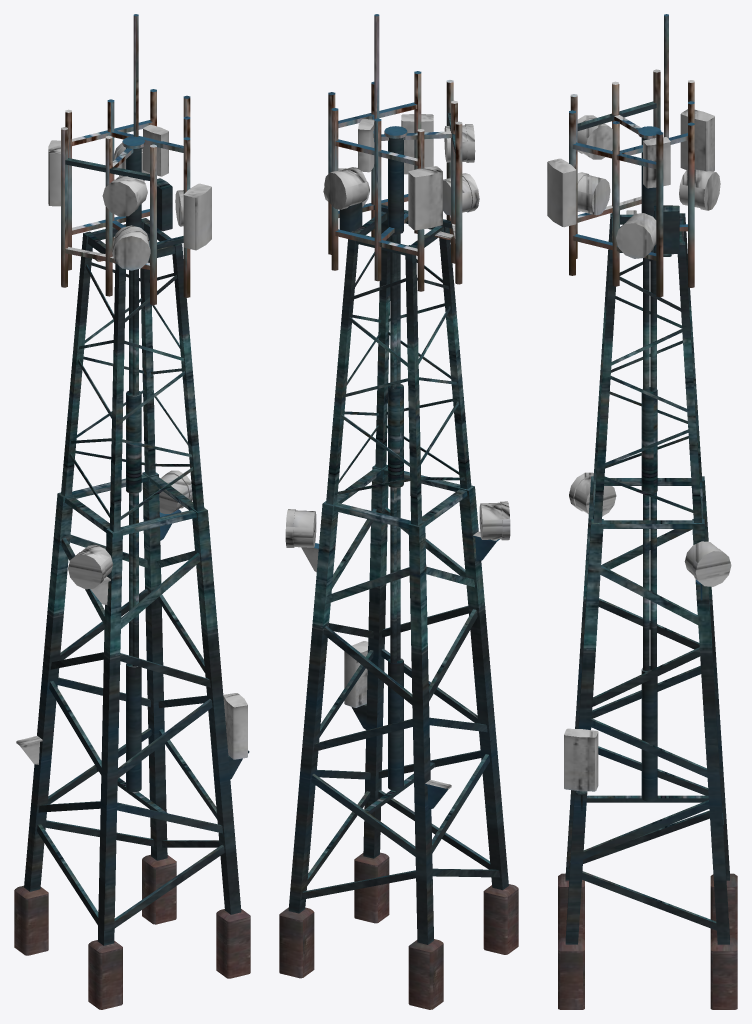
File: tower_radio.glb
3 renders of one model, left to right at view 1: azimuth 30°, elevation 25°; view 2: azimuth 150°, elevation 25°; view 3: azimuth 270°, elevation 25°, orthographic. The views are drawn at different scales.
Visible parts, largest first — view 1: tower_radio; view 2: tower_radio; view 3: tower_radio.
Boxes of the visible parts, left/top/right/bottom form: tower_radio: left=14, top=14, right=250, bottom=1009; tower_radio: left=279, top=14, right=518, bottom=1009; tower_radio: left=547, top=14, right=737, bottom=1009.
Bounding box in the file's own units: 0.5021 × 2.6 × 0.4657.
1 material, 1 textured.
